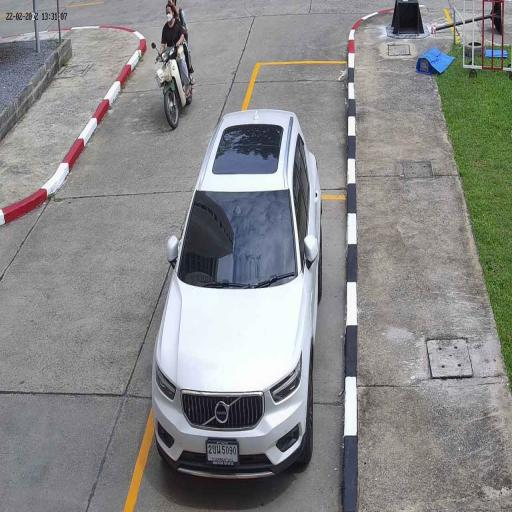car: (151, 108, 323, 486)
motorcycle: (156, 46, 186, 130)
